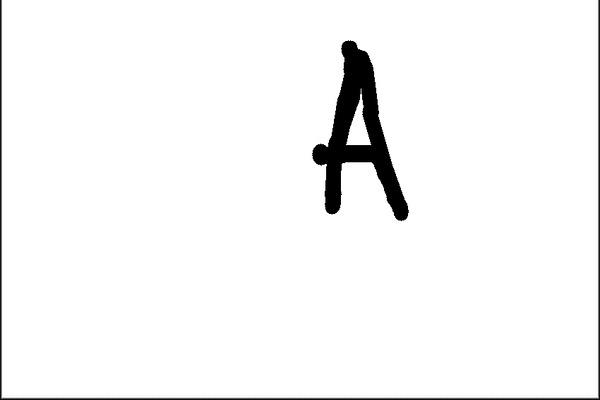A: (301, 31, 419, 233)
